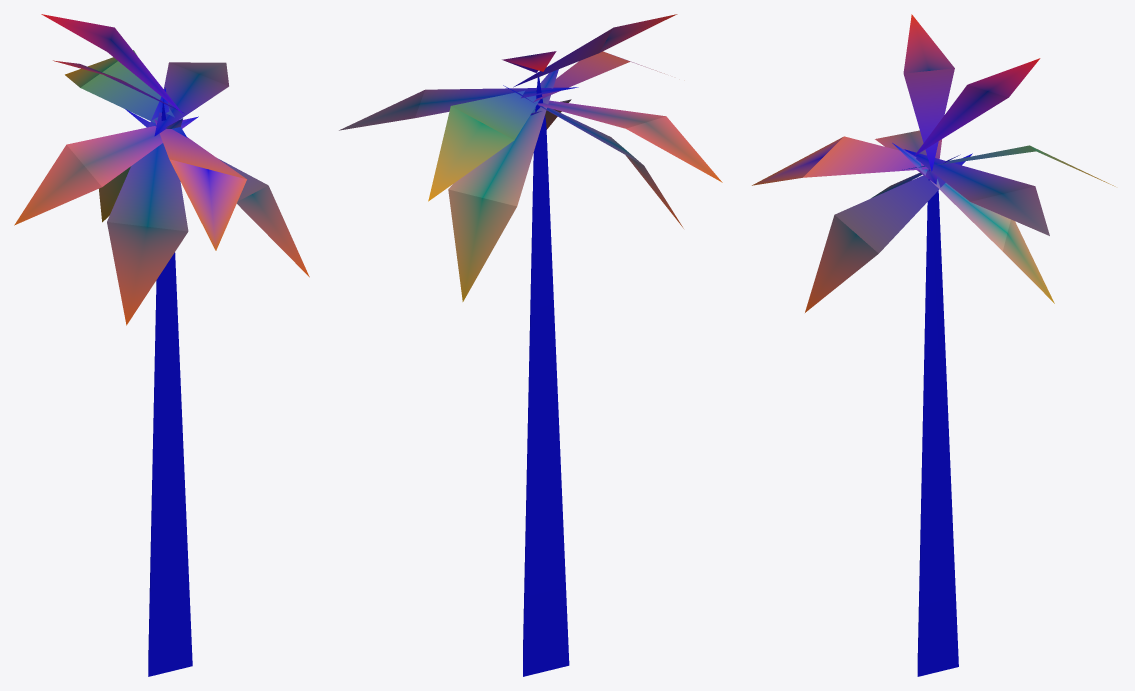
3 views of the same model, side by side, from view 1: azimuth 30°, elevation 25°; view 2: azimuth 150°, elevation 25°; view 3: azimuth 270°, elevation 25° (orthographic). The views are drawn at different scales.
Visible parts, largest first — view 1: 7; view 2: 7; view 3: 7.
Part boxes in pixels (x1,y1,x2,y2): 7: [14, 14, 309, 676]; 7: [339, 14, 722, 676]; 7: [752, 14, 1115, 676].
Size of the model in its own units: 0.6296 by 1.34 by 0.7488.
